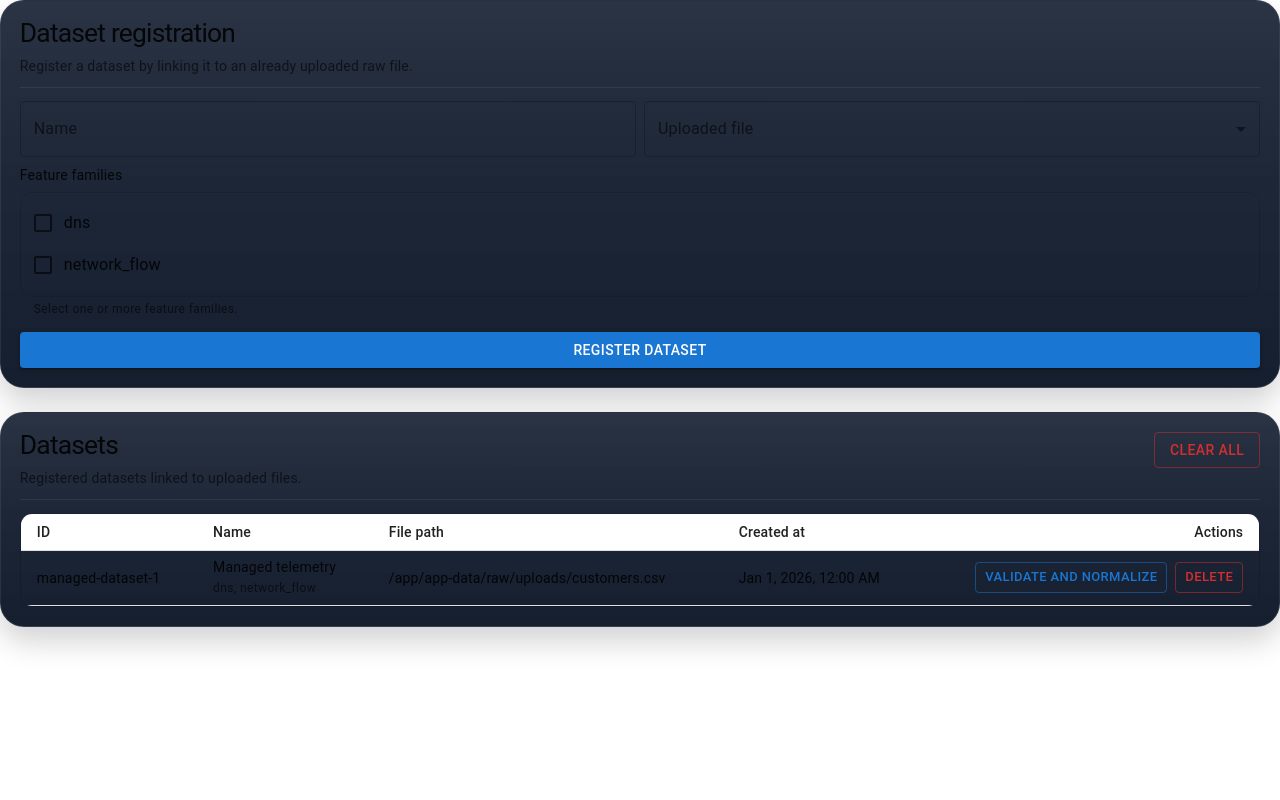
Test: DataManagementPage › deletes a managed dataset record from the registry table
This screenshot has width=1280, height=800.
Click the button "Delete". click: (1209, 578)
box: [1175, 562, 1243, 593]
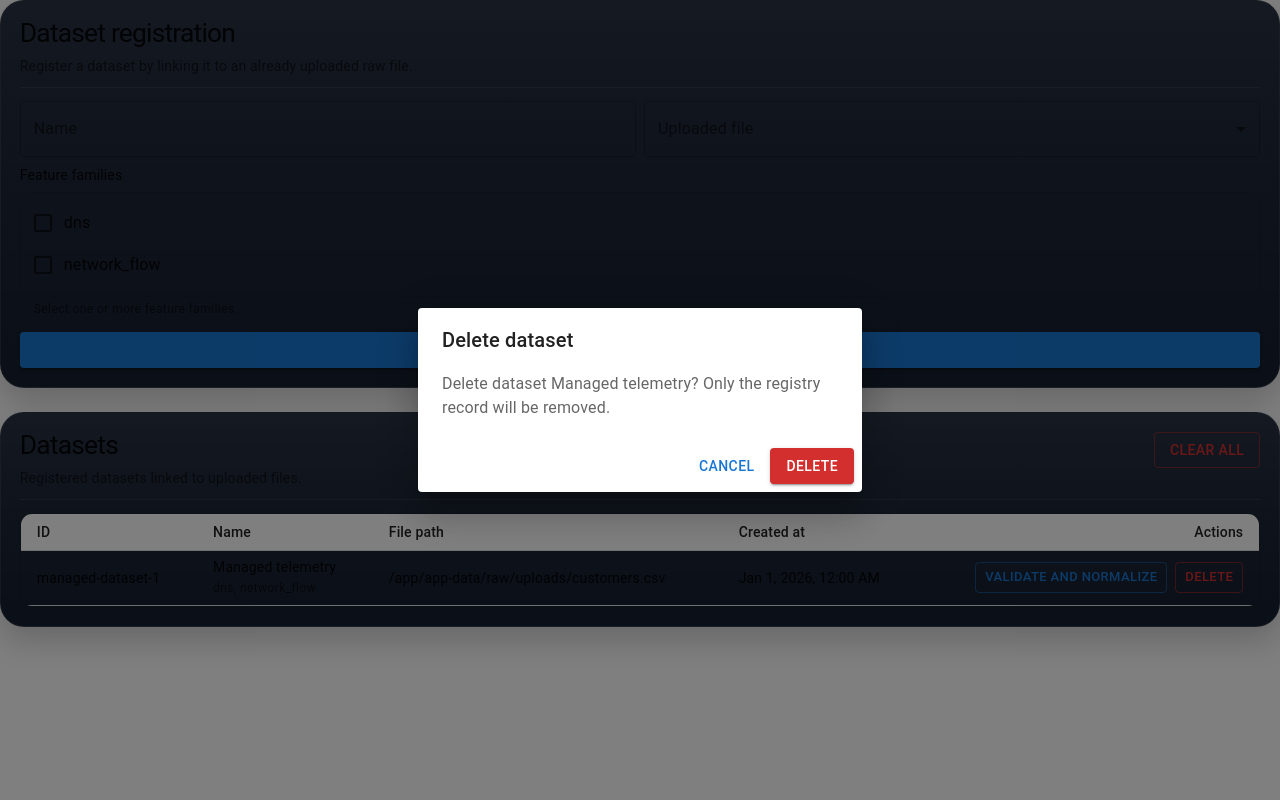
Click the button "Delete". click: (812, 466)
box: [770, 448, 854, 484]
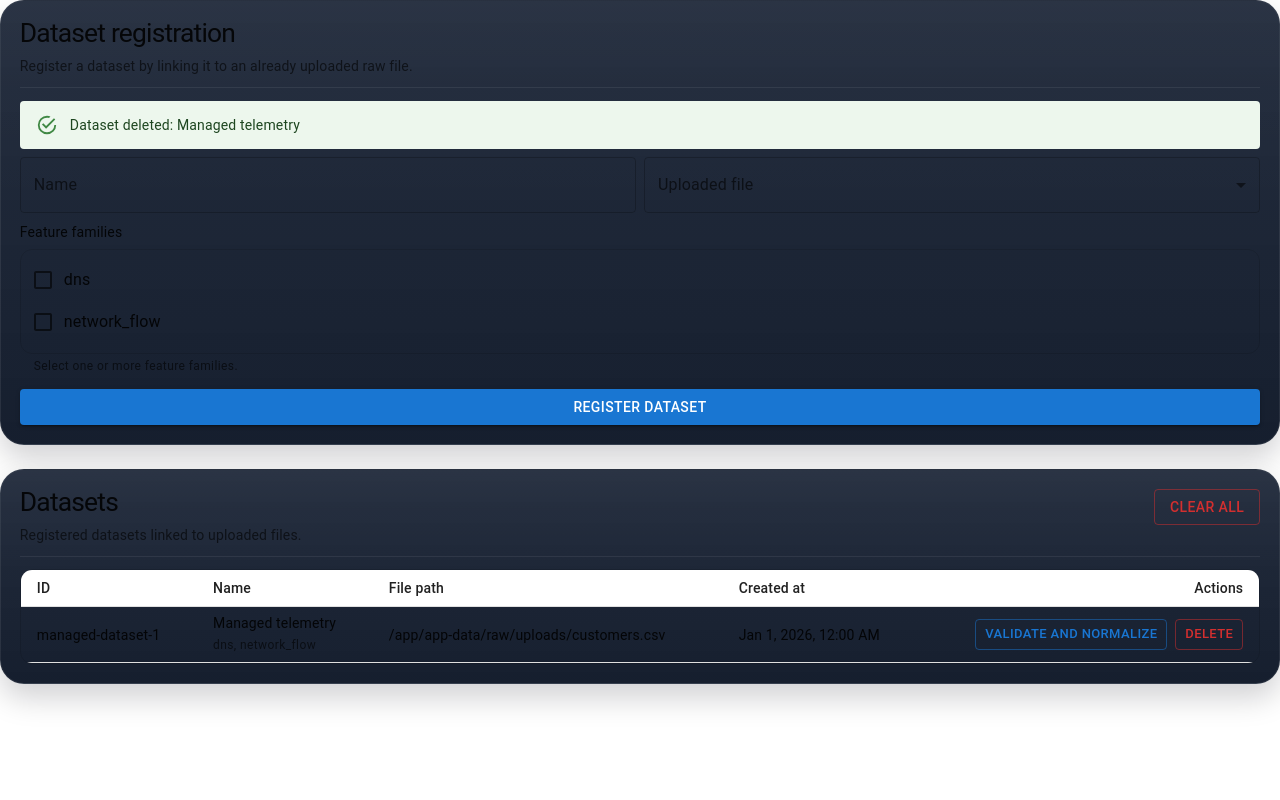
Check: the text "Dataset deleted: Managed telemetry" is shown, box [70, 116, 300, 132]
